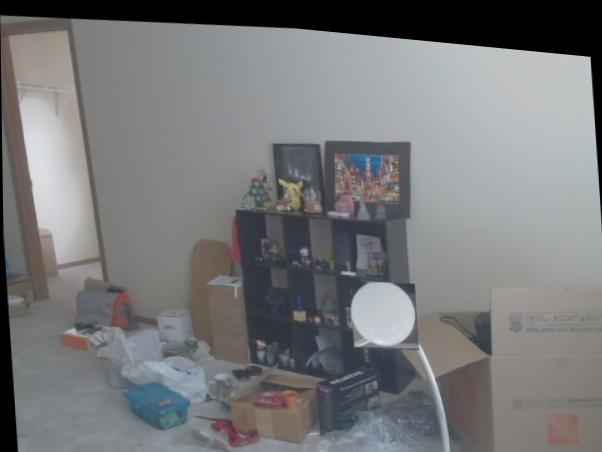Fan: (349, 271, 418, 345)
